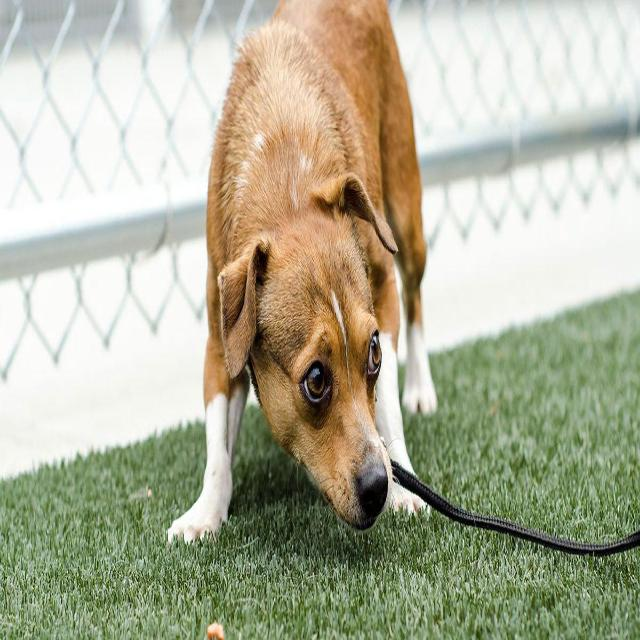Dog: (98, 3, 546, 592)
